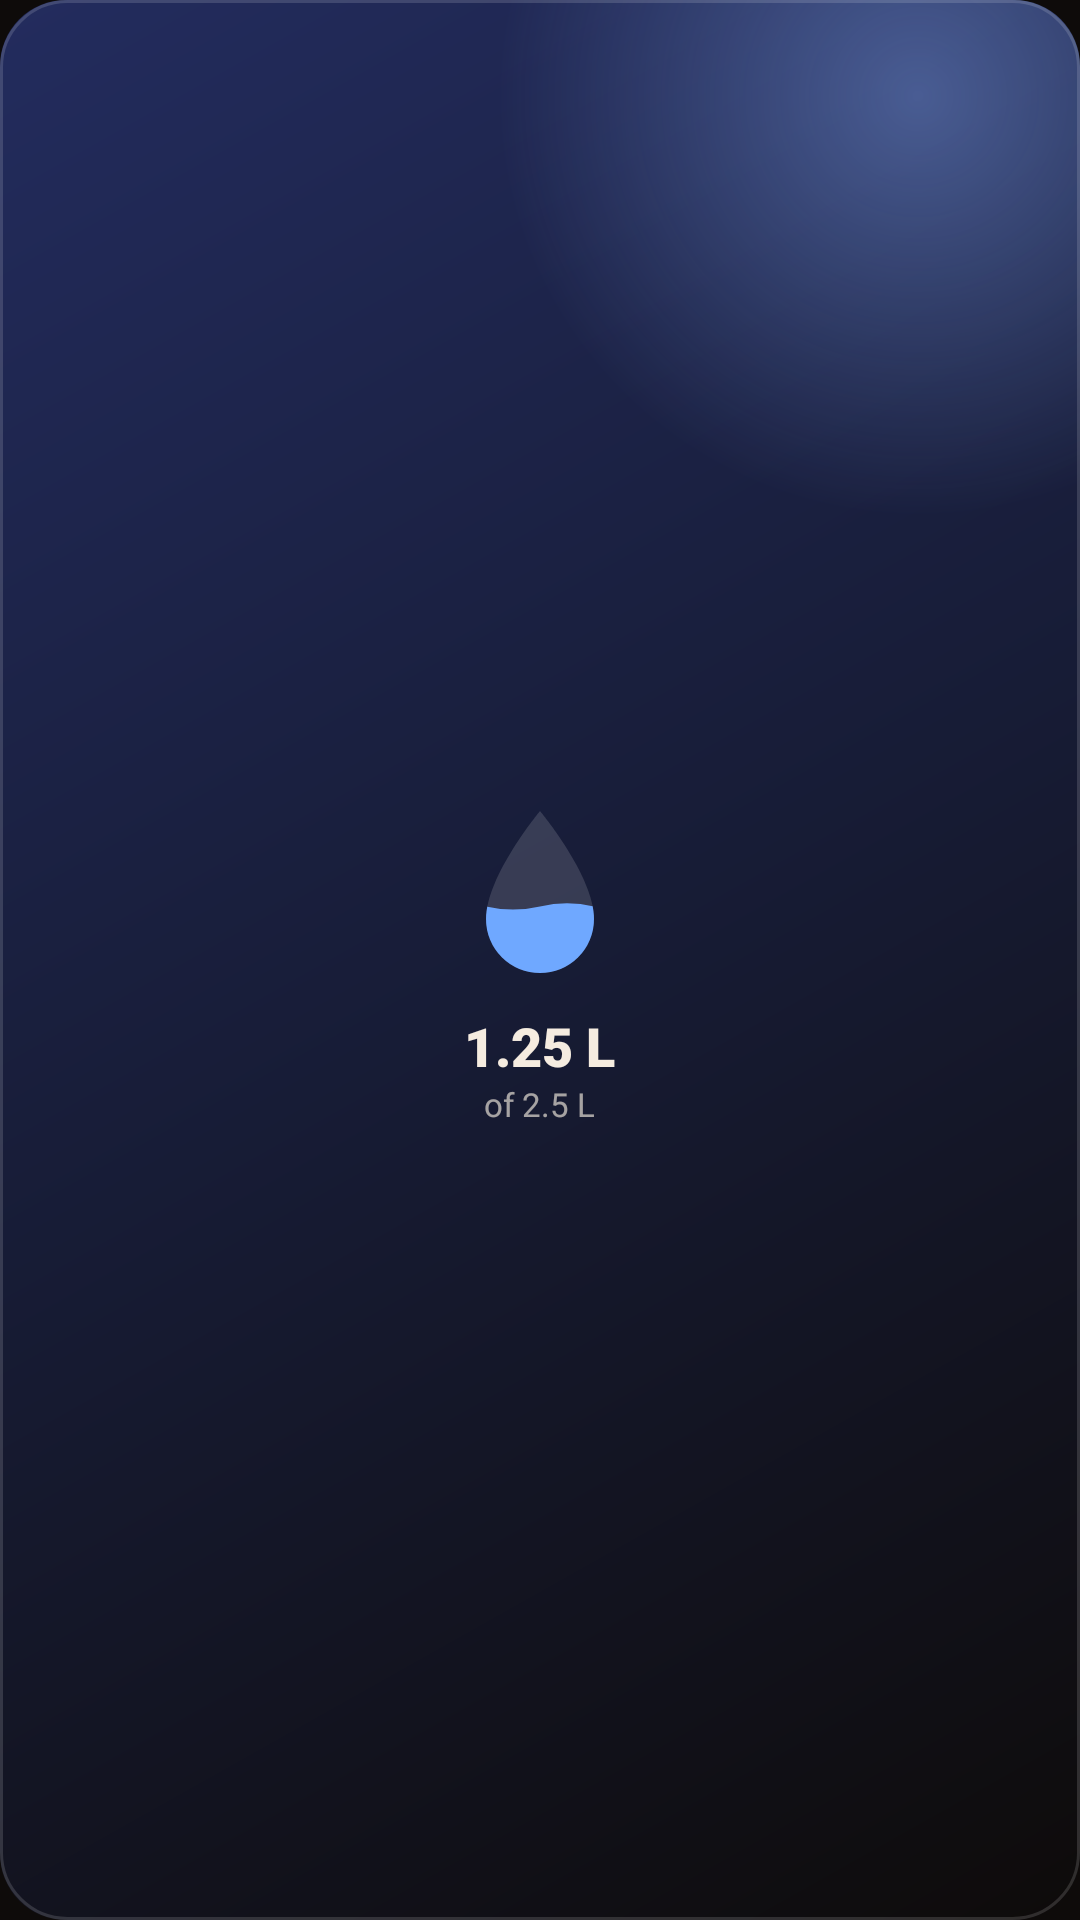

Icons on this 1080 x 1920 Android screen, each with its box as region(x1, y1, x2, y2):
widget art drop: region(486, 812, 594, 973)
